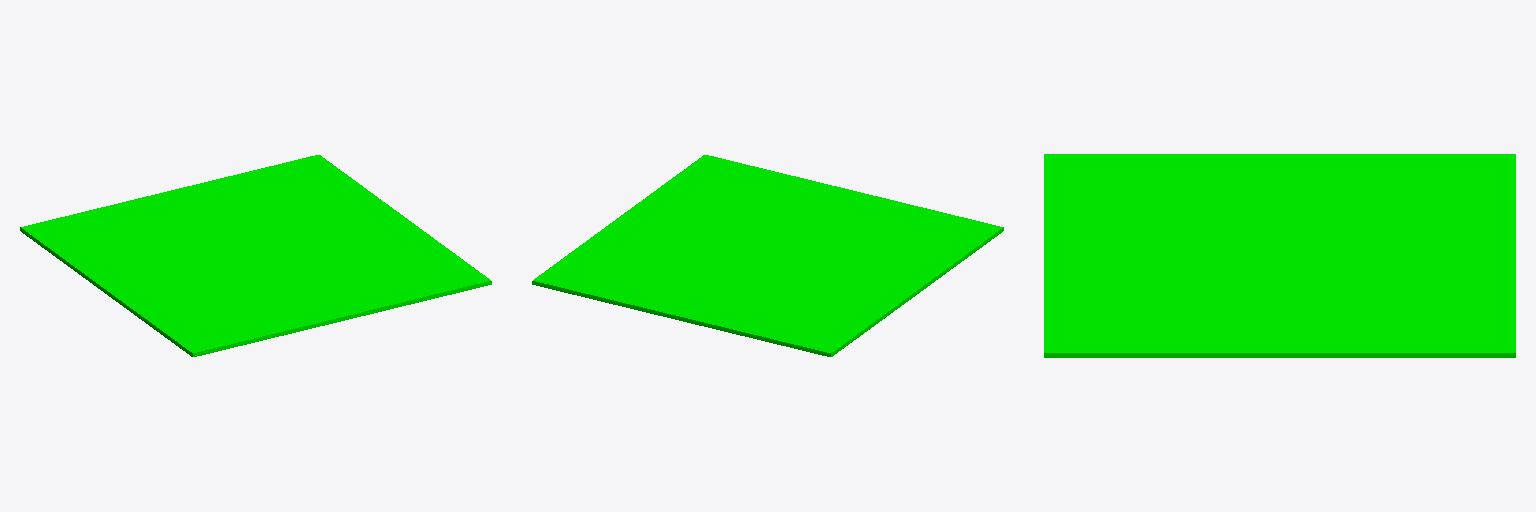
robot.urdf — base plate:
<?xml version="1.0"?>
<!-- created with Phobos 1.0.1 "Capricious Choutengan" -->
  <robot name="base plate">

    <link name="Untitled">
      <inertial>
        <origin xyz="0 0 0" rpy="0 0 0"/>
        <mass value="0.001"/>
        <inertia ixx="0.001" ixy="0" ixz="0" iyy="0.001" iyz="0" izz="0.001"/>
      </inertial>
      <visual name="Cube">
        <origin xyz="0 0 0" rpy="0 0 0"/>
        <geometry>
          <box size="0.75 0.75 0.01"/>
        </geometry>
        <material name="Material.004"/>
      </visual>
    </link>

    <material name="Material.004">
      <color rgba="0 1 0 1.0"/>
    </material>

  </robot>

--- Facts derived from the render (not from the file) ---
3 views of the same robot in one strip: view 1: azimuth 30°, elevation 25°; view 2: azimuth 150°, elevation 25°; view 3: azimuth 270°, elevation 25° (orthographic).
Robot: base plate — 1 links, 0 joints (none); root link Untitled; default pose: every joint at zero.
Visible links, largest first — view 1: Untitled; view 2: Untitled; view 3: Untitled.
Boxes of the visible links, box(x1,y1,x2,y2) form: Untitled: box(20, 155, 491, 356); Untitled: box(532, 155, 1003, 356); Untitled: box(1044, 154, 1515, 357).
Size in the robot's own frame: 0.75 by 0.75 by 0.01 metres.
Geometry: primitives only (box / cylinder / sphere), no mesh files.